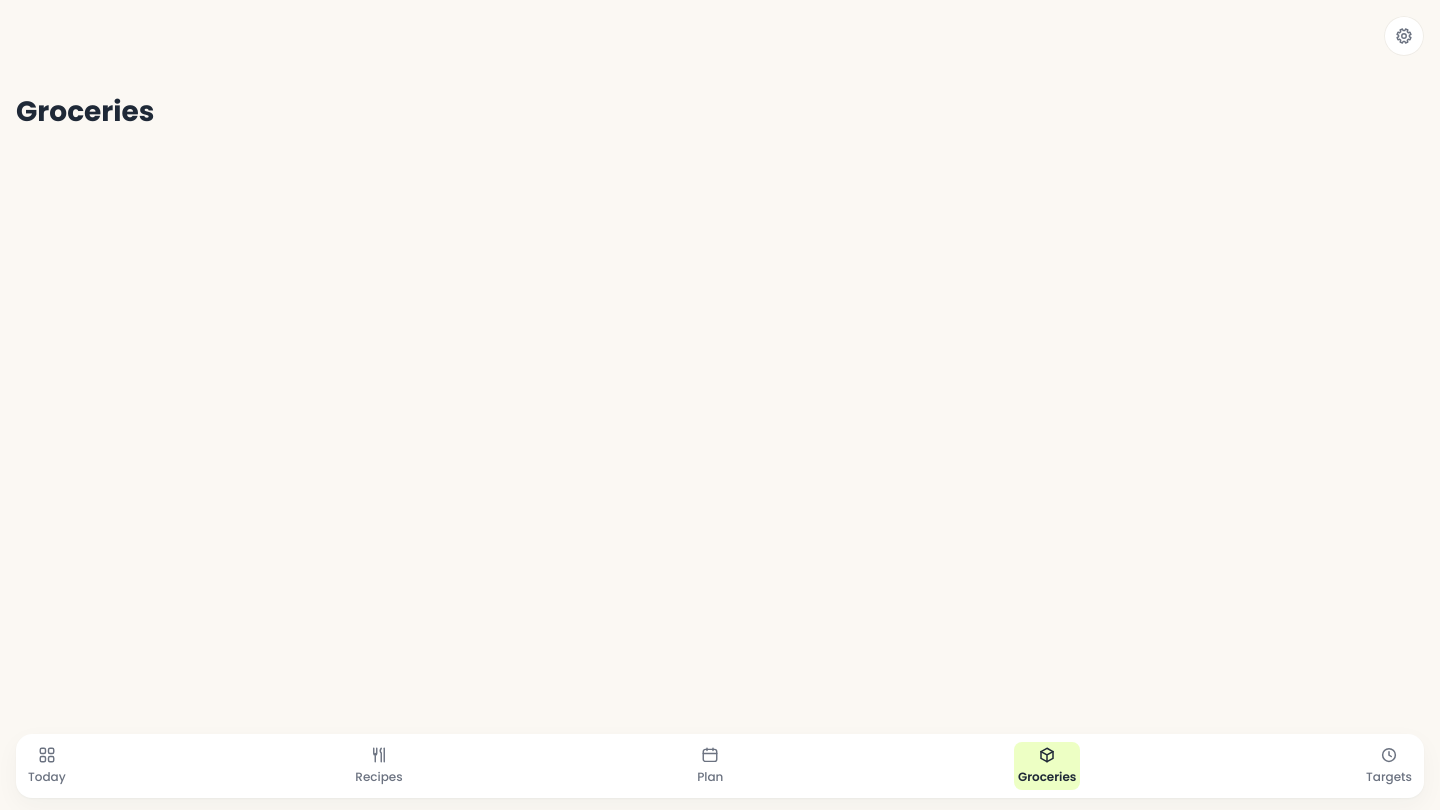
Test: App settings (SPEC-008) › Cancel after a change sends no PUT and closes the dialog
This screenshot has width=1440, height=810.
Click the button named "Settings" at (1404, 36), box top-left (1384, 16), bottom-right (1424, 56)
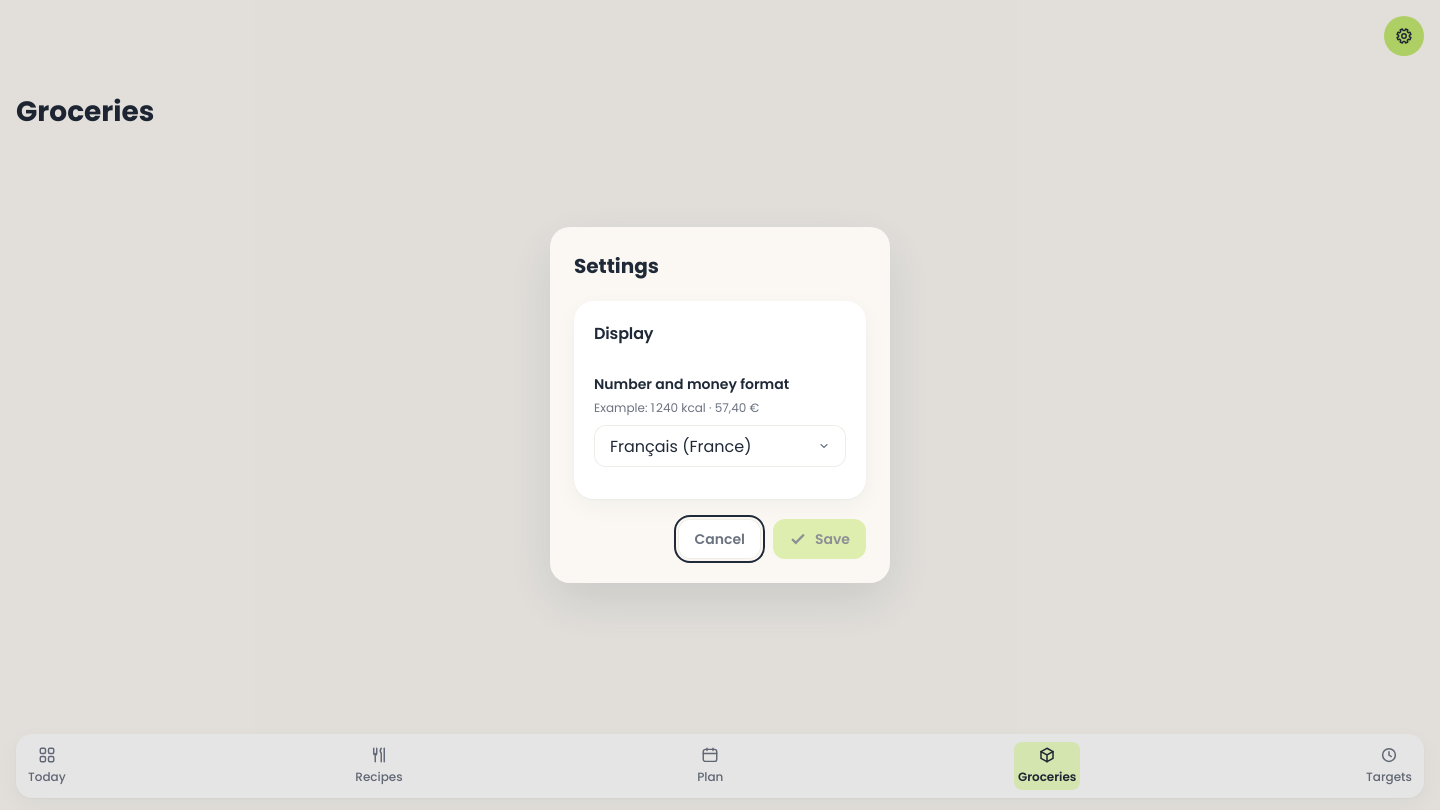
Select "English (Ireland)" in the dropdown labelled "Number and money format" at (720, 446), box top-left (594, 425), bottom-right (846, 467)
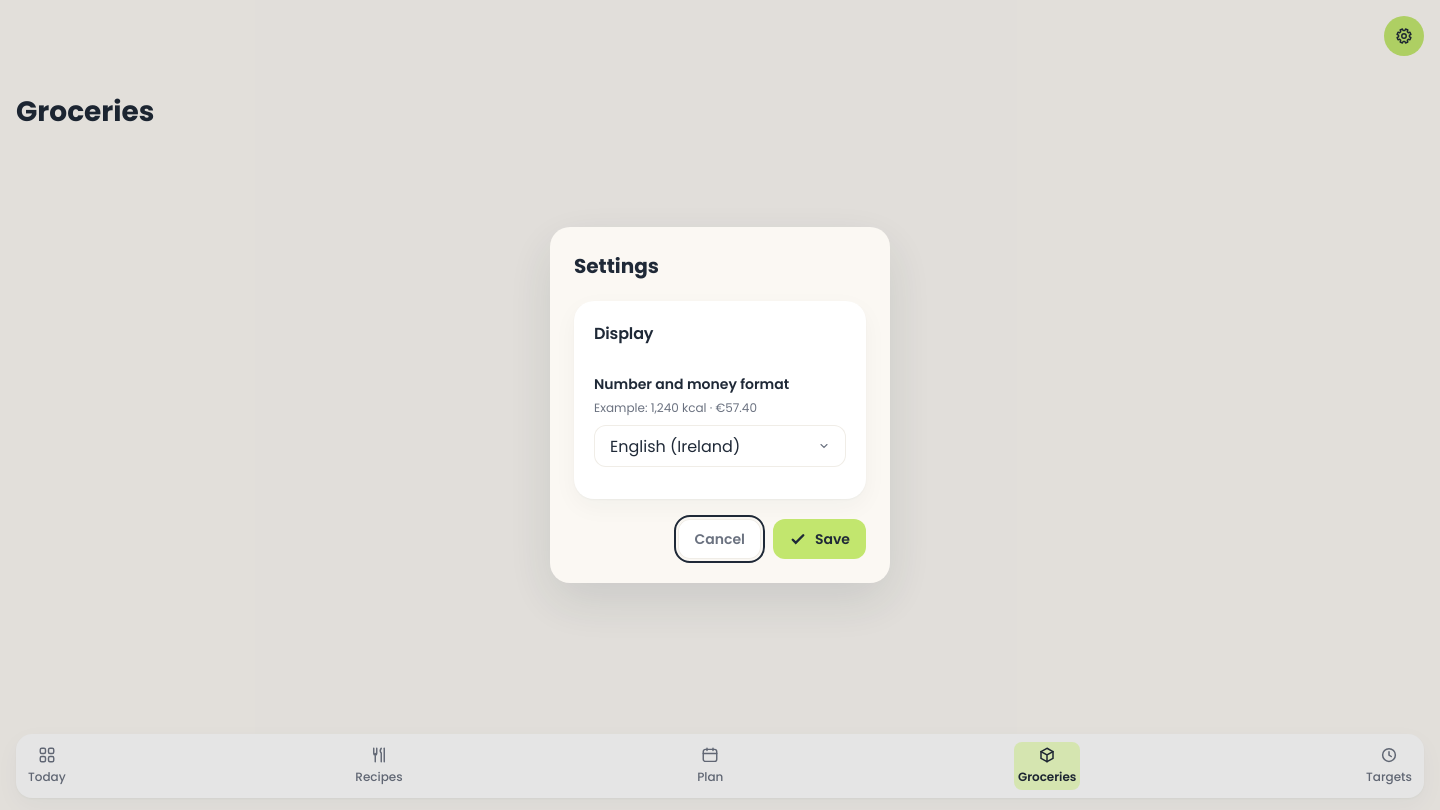
Click the button "Cancel" at (720, 539), box top-left (678, 519), bottom-right (761, 559)
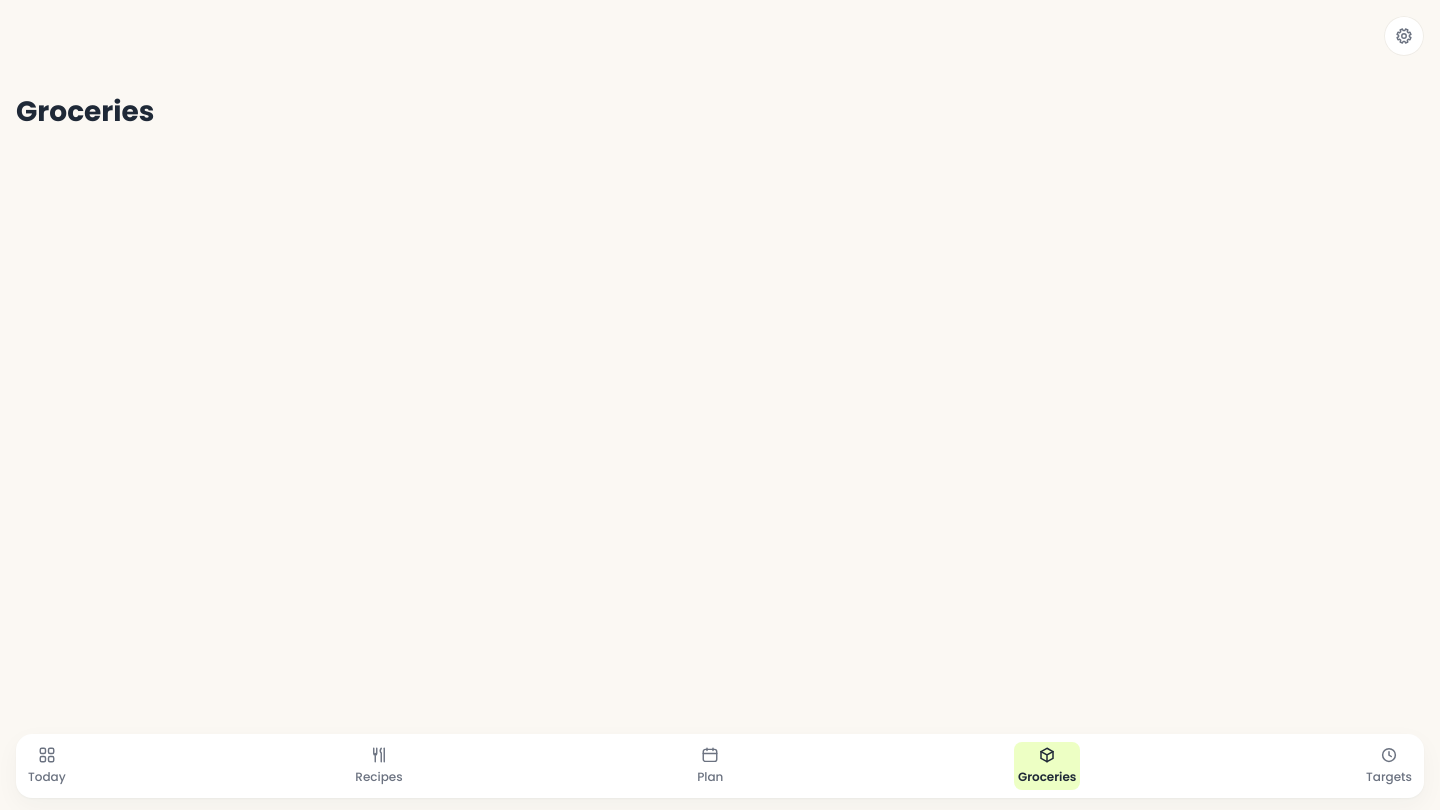
Result: the dialog is gone
